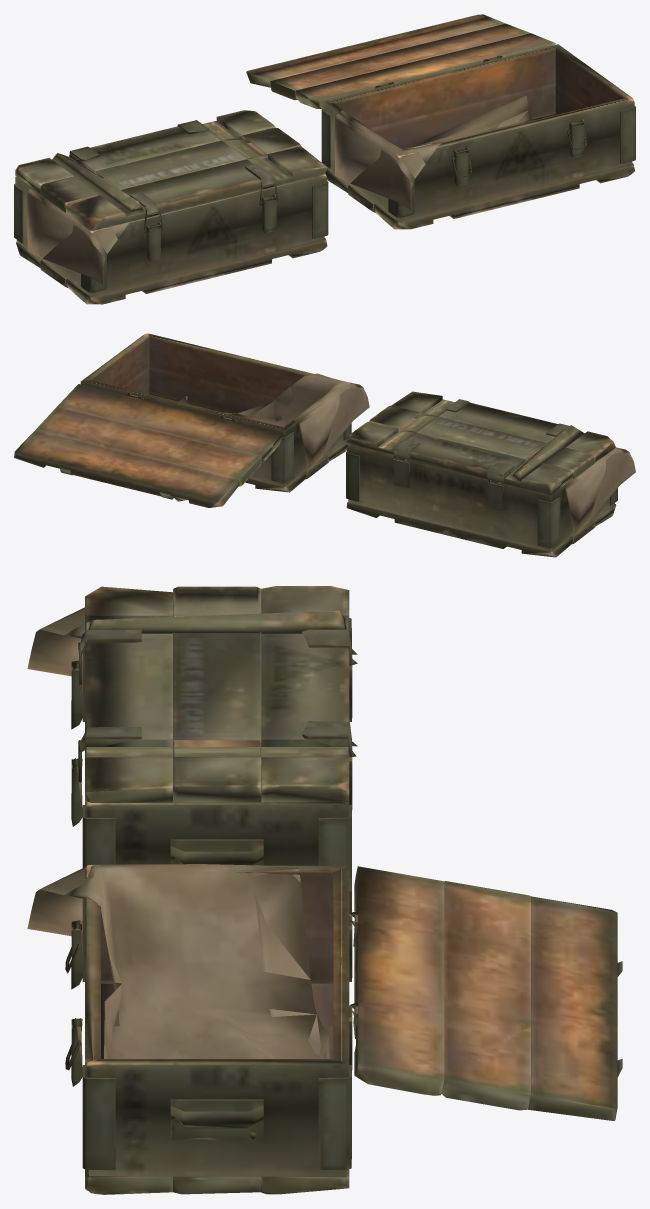
Rendered from crateMilitary_lo.glb.
3 views of the same model, one above another, from view 1: azimuth 30°, elevation 25°; view 2: azimuth 150°, elevation 25°; view 3: azimuth 270°, elevation 25° (orthographic). The views are drawn at different scales.
Visible parts, largest first — view 1: old_military_crate_b, old_military_crate_lid_a, old_military_crate_a, old_military_crate_lid_b, old_military_crate_cloth_b, old_military_crate_cloth_a, old_military_crate_latch_a, old_military_crate_latch_b; view 2: old_military_crate_lid_b, old_military_crate_lid_a, old_military_crate_a, old_military_crate_b, old_military_crate_cloth_b, old_military_crate_cloth_a; view 3: old_military_crate_lid_a, old_military_crate_lid_b, old_military_crate_b, old_military_crate_cloth_b, old_military_crate_a, old_military_crate_cloth_a, old_military_crate_latch_b, old_military_crate_latch_a.
Part boxes in pixels (x1,y1,x2,y2): old_military_crate_b: (321,44,635,229); old_military_crate_lid_a: (15,110,327,230); old_military_crate_a: (14,173,328,304); old_military_crate_lid_b: (246,14,555,109); old_military_crate_cloth_b: (335,95,533,209); old_military_crate_cloth_a: (27,188,129,284); old_military_crate_latch_a: (146,194,276,261); old_military_crate_latch_b: (453,119,584,185); old_military_crate_lid_b: (14,384,282,507); old_military_crate_lid_a: (347,391,616,494); old_military_crate_a: (346,445,617,557); old_military_crate_b: (80,333,351,492); old_military_crate_cloth_b: (173,373,369,469); old_military_crate_cloth_a: (564,447,635,534); old_military_crate_lid_a: (80,586,357,802); old_military_crate_lid_b: (350,866,622,1120); old_military_crate_b: (82,865,352,1194); old_military_crate_cloth_b: (27,864,330,1058); old_military_crate_a: (82,618,352,887); old_military_crate_cloth_a: (27,607,84,676); old_military_crate_latch_b: (71,920,82,1086); old_military_crate_latch_a: (71,660,82,826).
Size of the model in its own units: 1.81 by 0.2845 by 0.9677.
1 material, 1 textured.
